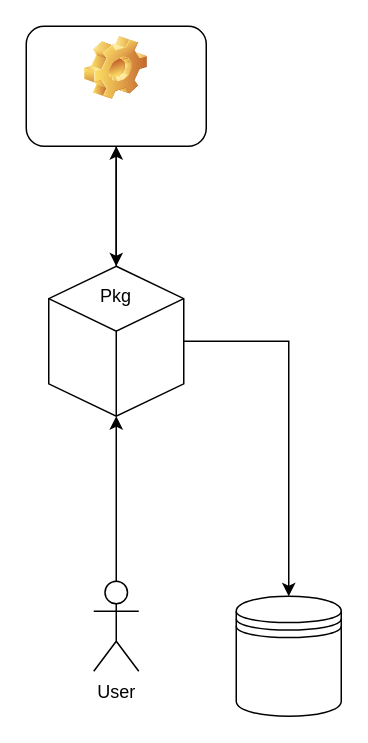
The diagram is 368 pixels wide and 743 high, and some of its shapes have lost their labels. The box of each missing label's shape, as (x1, y1, x2, y2) in pixels:
Personal Data Store: (235, 595, 341, 716)
Site API/Front-end: (25, 25, 206, 146)
